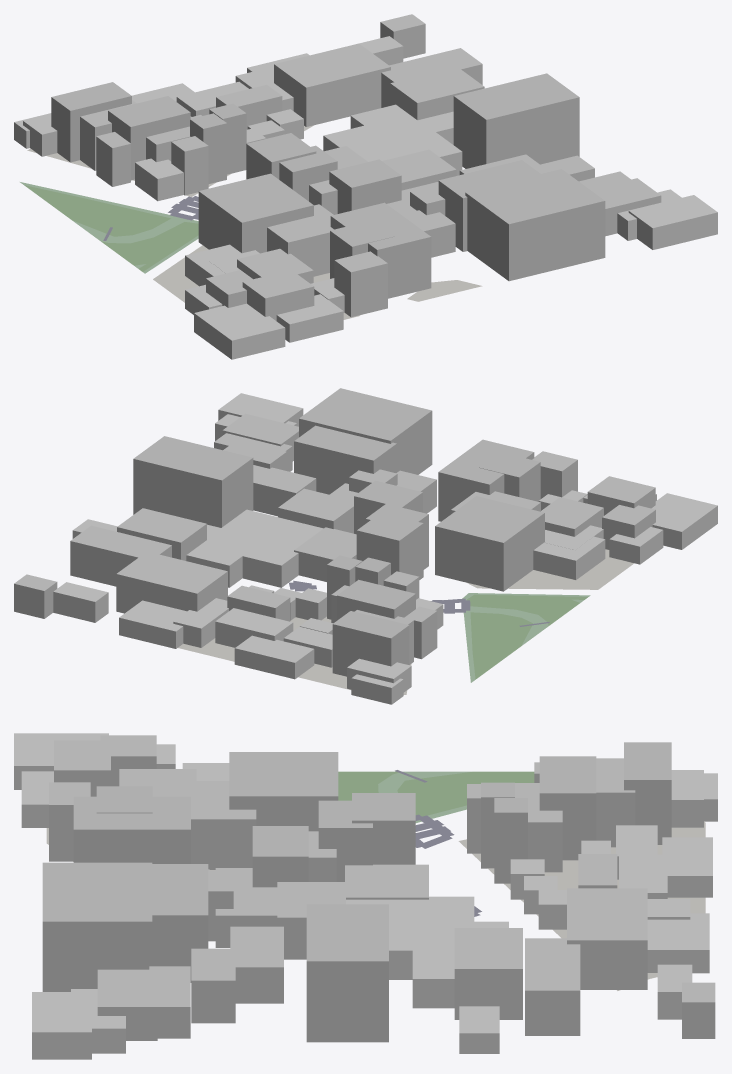
The model's file is 110_106_mid.glb.
3 views of the same model, one above another, from view 1: azimuth 30°, elevation 25°; view 2: azimuth 150°, elevation 25°; view 3: azimuth 270°, elevation 25° (orthographic). The views are drawn at different scales.
Size of the model in its own units: 543 by 67.69 by 534.
